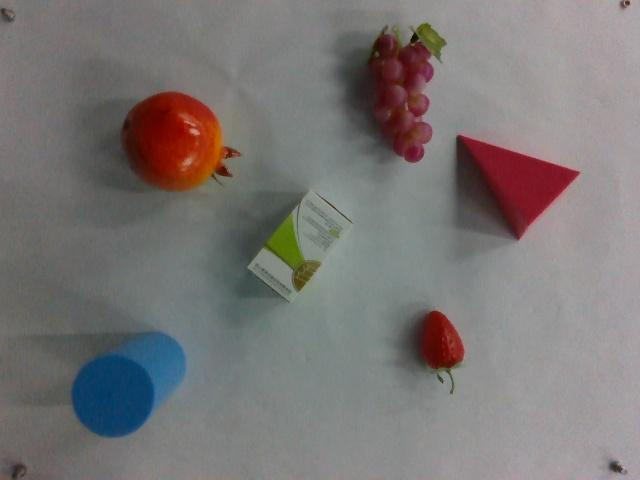carton: (246, 187, 352, 306)
cylinder: (69, 325, 188, 441)
grape: (358, 23, 449, 164)
pomegranate: (119, 91, 239, 193)
pyramid: (457, 130, 581, 243)
strawberry: (418, 310, 467, 395)
